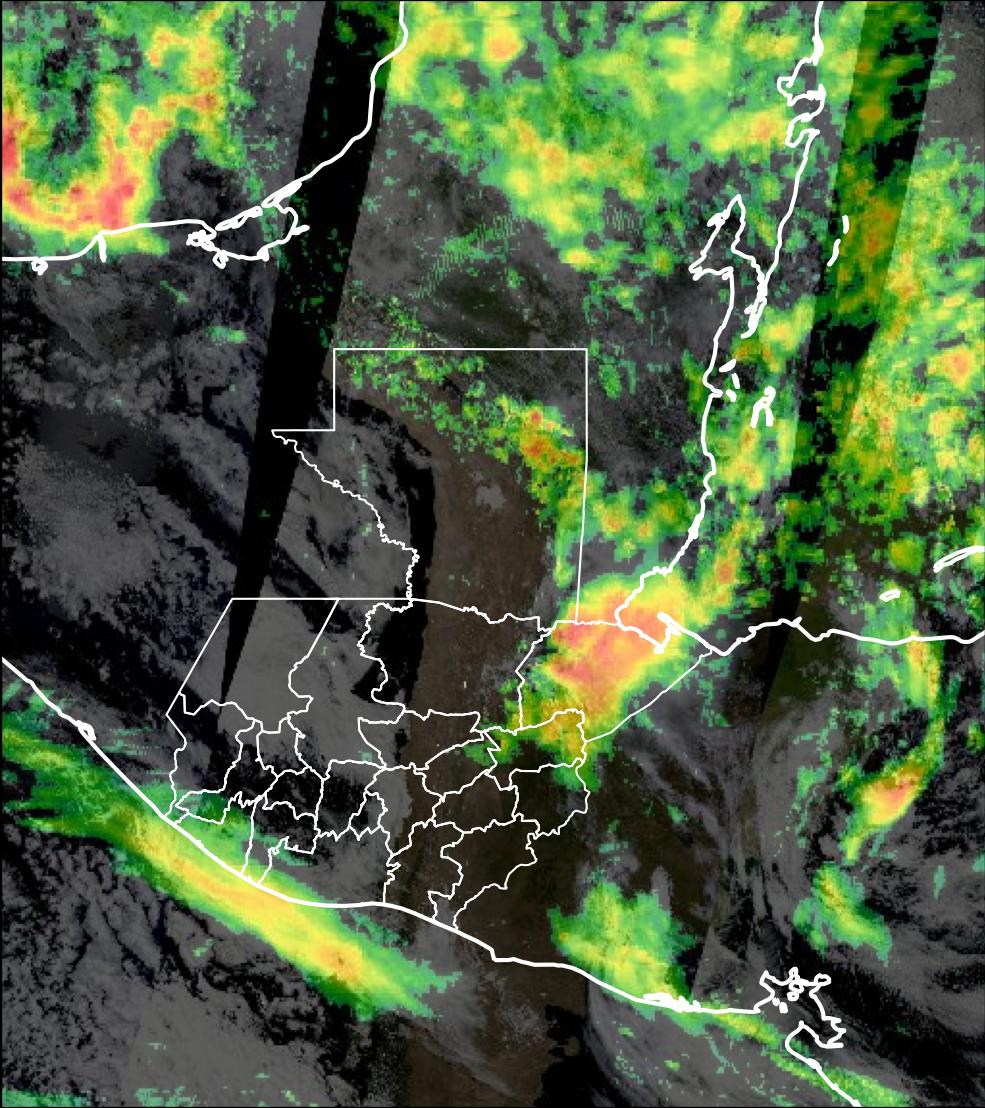precipitacion: (537, 589, 682, 730), (1, 94, 149, 230), (863, 764, 923, 819)
